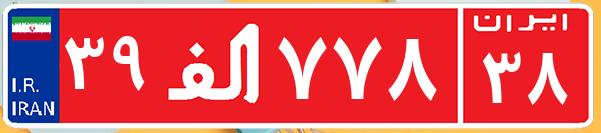3: (57, 26, 110, 107), (475, 38, 525, 113)
7: (273, 28, 330, 110), (330, 28, 385, 110)
8: (385, 28, 445, 110), (525, 38, 570, 115)
9: (110, 28, 158, 105)
الف: (158, 15, 273, 115)
